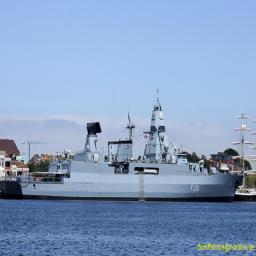Fragata: (2, 91, 247, 202)
